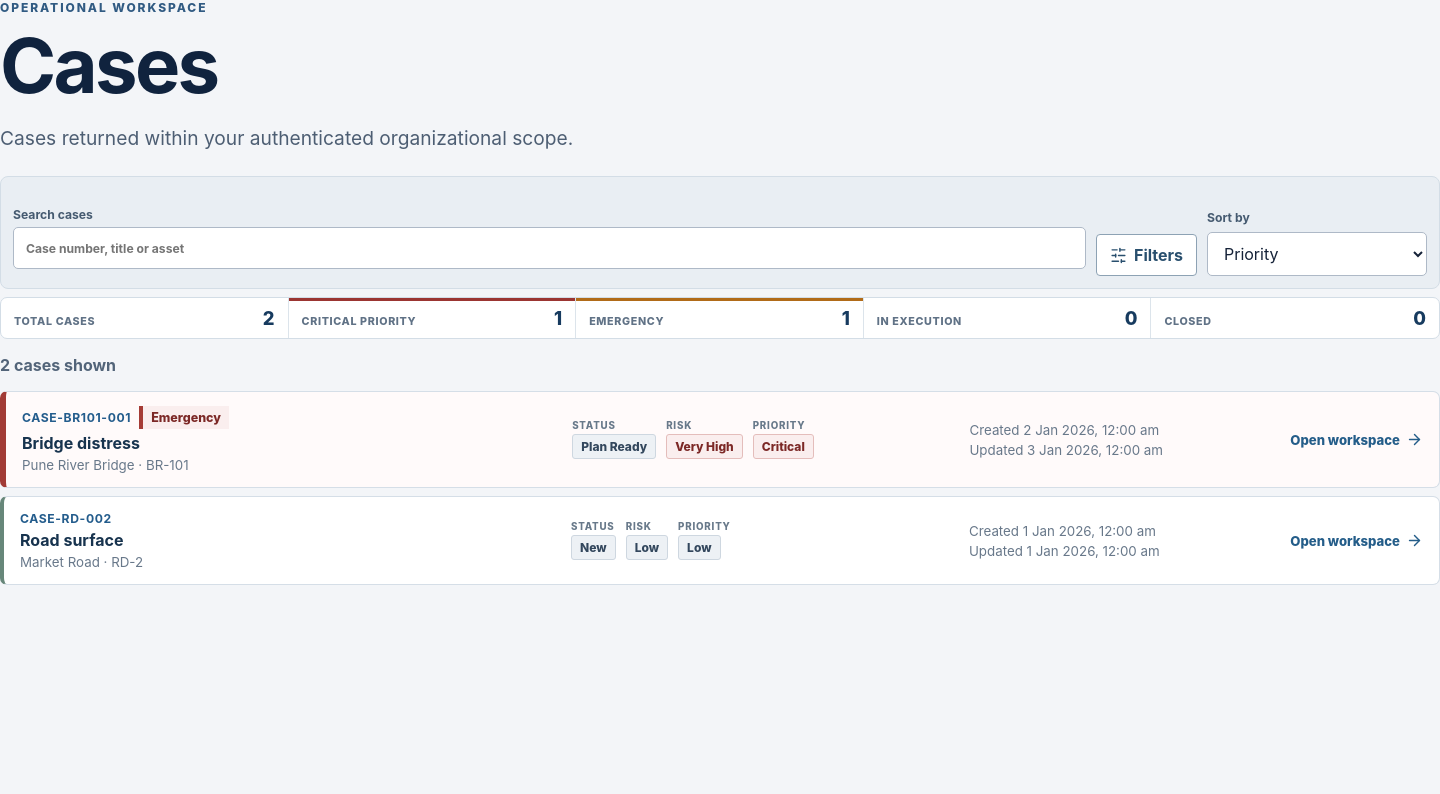
Test: Cases page › opens the selected workspace, shows overview, and returns to the cases registry
This screenshot has width=1440, height=794.
Expected: the text "CASE-BR101-001" is shown, left=22, top=410, right=131, bottom=425
Step 1. Click the button "CASE-BR101-001" → (722, 440), box left=6, top=392, right=1439, bottom=487
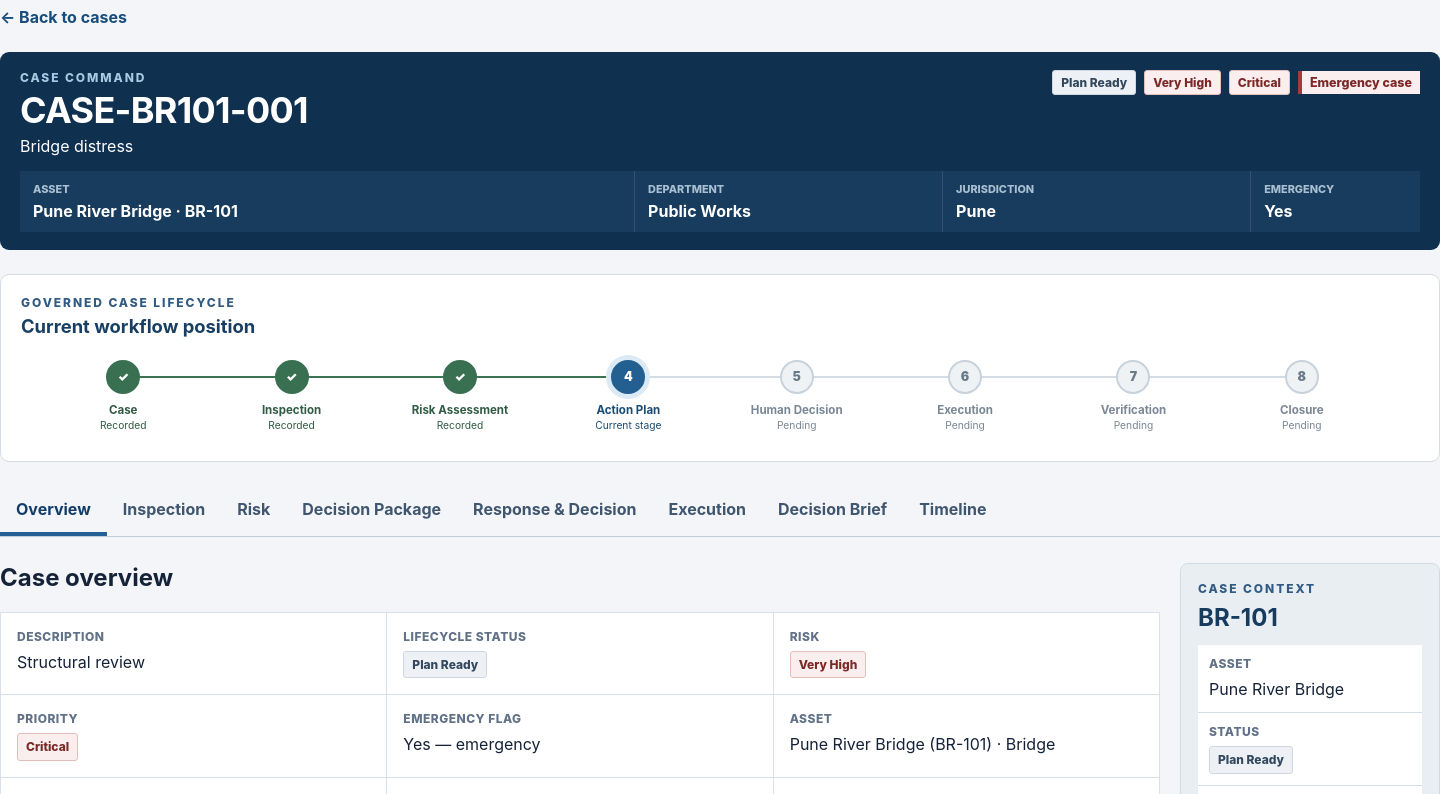
Expected: the heading "CASE-BR101-001" is shown, left=20, top=88, right=308, bottom=132
Expected: the text "Structural review" is shown, left=17, top=652, right=145, bottom=672
Expected: the button "← Back to cases" is shown
Step 2. Click the button "← Back to cases" → (64, 17), box left=0, top=0, right=127, bottom=34
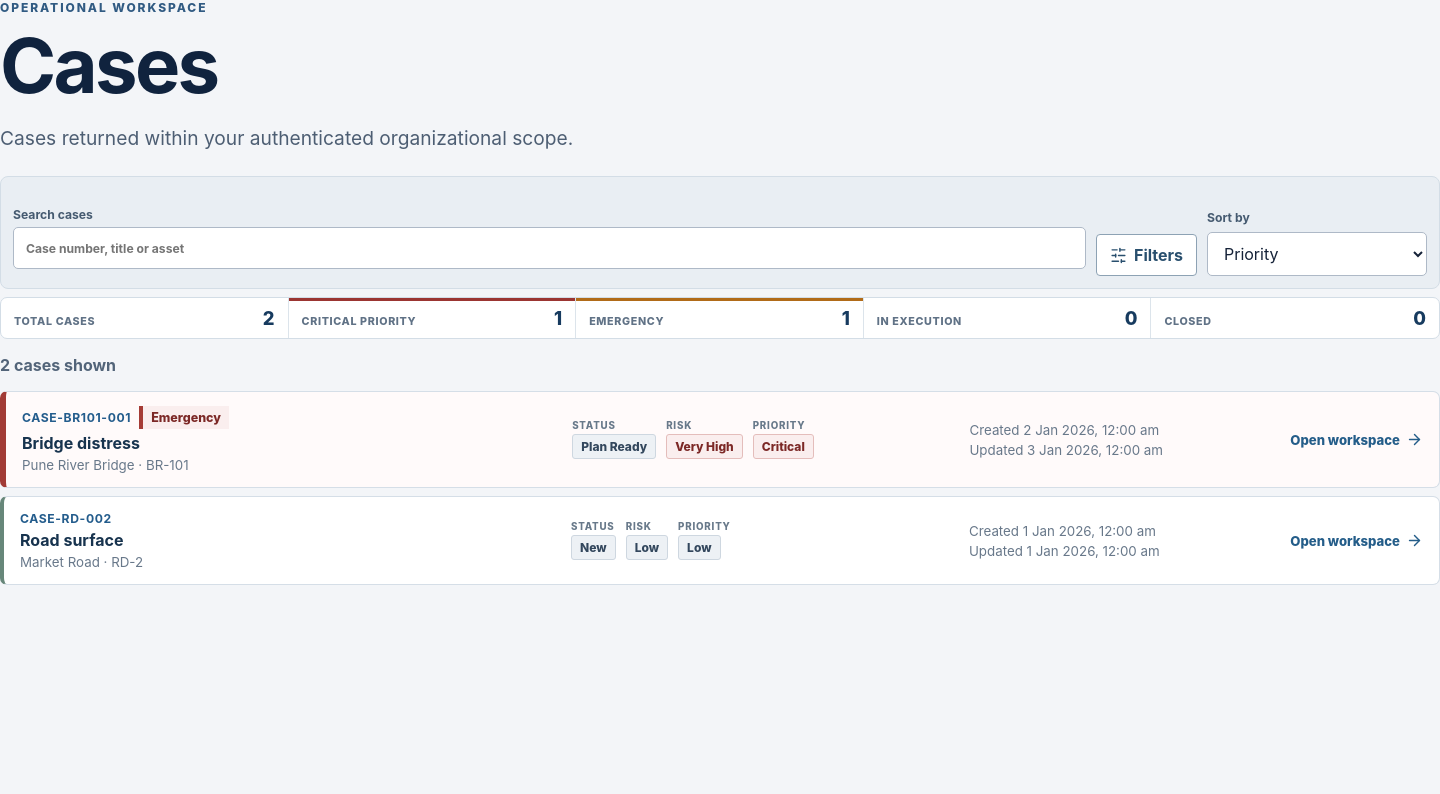
Expected: the heading "Cases" is shown, left=0, top=19, right=218, bottom=111
